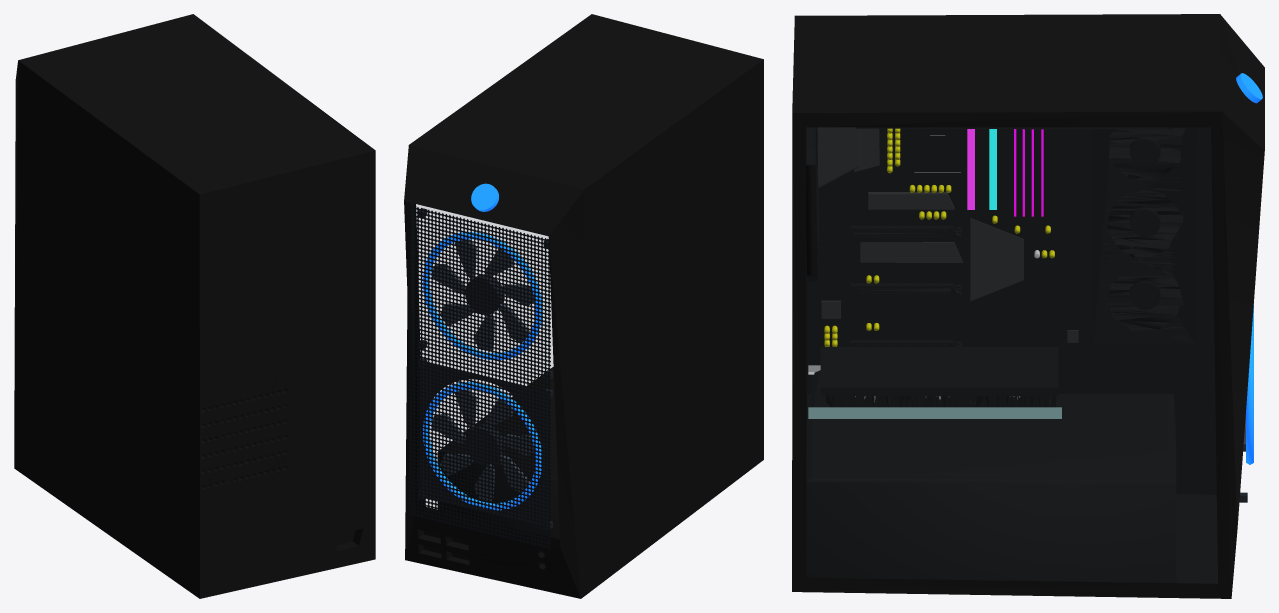
Rendered from pc-balanced.glb.
3 renders of one model, left to right at view 1: azimuth 30°, elevation 25°; view 2: azimuth 150°, elevation 25°; view 3: azimuth 270°, elevation 25°, orthographic. The views are drawn at different scales.
Parts seen in each view (by area): view 1: Case_Frame; view 2: Case_Frame, Front_Mesh_Panel, PSU_Shroud, Glass_Side, Fan_Front_Bottom_Housing, Fan_Front_Bottom_Blades, Fan_Front_Top_Blades, Fan_Front_Top_RGB, Fan_Front_Bottom_RGB, Fan_Front_Bottom_Hub, Fan_Front_Top_Hub, Power_Button; view 3: Glass_Side, Case_Frame, PSU_Shroud, Motherboard, CPU_Radiator, GPU_Main, motherboard black things, Motherboard_Slots, GPU_Accent, GPU fans.002, Fan_Rear_Housing, Motherboard_Capacitors (+4 smaller).
Boxes of the visible parts, box(x1,y1,x2,y2) form: Case_Frame: box(14, 14, 375, 598); Case_Frame: box(404, 14, 763, 598); Front_Mesh_Panel: box(409, 205, 550, 549); PSU_Shroud: box(437, 367, 559, 539); Glass_Side: box(413, 204, 552, 506); Fan_Front_Bottom_Housing: box(419, 363, 549, 525); Fan_Front_Bottom_Blades: box(432, 389, 534, 501); Fan_Front_Top_Blades: box(432, 239, 534, 350); Fan_Front_Top_RGB: box(423, 232, 541, 359); Fan_Front_Bottom_RGB: box(423, 382, 541, 510); Fan_Front_Bottom_Hub: box(465, 424, 504, 464); Fan_Front_Top_Hub: box(465, 274, 504, 314); Power_Button: box(471, 183, 498, 211); Glass_Side: box(807, 128, 1217, 582); Case_Frame: box(792, 14, 1264, 598); PSU_Shroud: box(806, 394, 1176, 582); Motherboard: box(806, 128, 1085, 372); CPU_Radiator: box(1091, 127, 1197, 344); GPU_Main: box(811, 347, 1058, 407); motherboard black things: box(817, 127, 1078, 342); Motherboard_Slots: box(850, 129, 1045, 346); GPU_Accent: box(808, 407, 1061, 418); GPU fans.002: box(1129, 137, 1179, 309); Fan_Rear_Housing: box(806, 127, 818, 281); Motherboard_Capacitors: box(824, 128, 1054, 346).
Size of the model in its own units: 0.1997 by 0.45 by 0.3955.
Materials: 15 (1 with a texture image).
